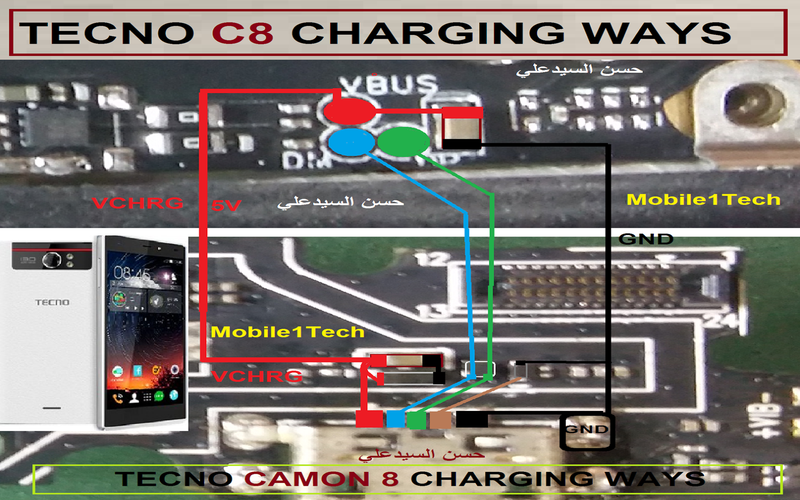Cirtuit-Board: (5, 67, 796, 480)
